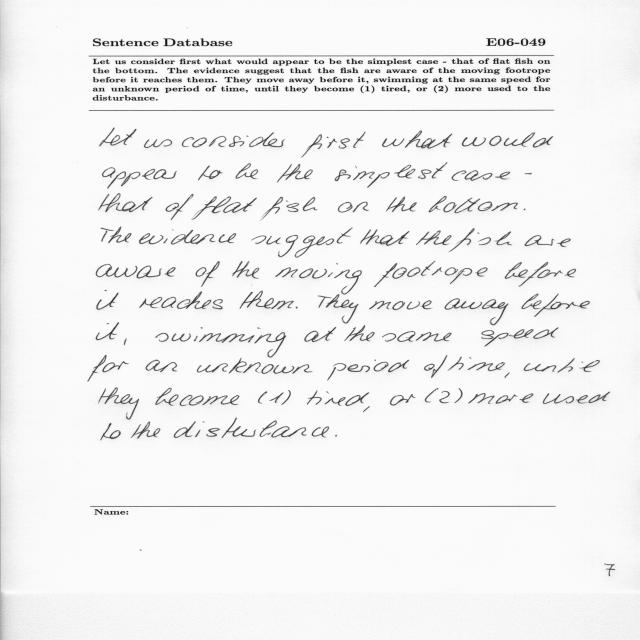word: (155, 327, 286, 358), (116, 292, 223, 325), (174, 418, 337, 438), (251, 228, 353, 258), (374, 261, 488, 287), (335, 163, 448, 188), (275, 263, 362, 295), (197, 358, 312, 374), (505, 262, 576, 287), (327, 360, 410, 381), (445, 299, 509, 326), (103, 167, 177, 189), (301, 132, 366, 157), (521, 294, 590, 317), (191, 196, 257, 220), (182, 133, 285, 148), (448, 228, 512, 252), (428, 196, 518, 213), (155, 388, 239, 406), (482, 328, 559, 347), (139, 230, 236, 245), (462, 133, 553, 148), (261, 197, 318, 220), (99, 388, 139, 420), (382, 131, 452, 149), (318, 294, 359, 324), (524, 358, 600, 373), (96, 264, 176, 278), (88, 356, 129, 382), (99, 194, 153, 212), (240, 291, 294, 309), (543, 391, 610, 404), (360, 229, 409, 246), (447, 357, 505, 371), (382, 331, 452, 342), (97, 290, 119, 324), (166, 194, 194, 220), (100, 128, 137, 146), (277, 164, 313, 182), (452, 170, 510, 181), (369, 300, 432, 310), (196, 261, 220, 287), (307, 391, 346, 406), (525, 235, 571, 247), (425, 355, 448, 378), (416, 230, 451, 245), (232, 261, 260, 279), (344, 326, 375, 342), (131, 422, 160, 439), (101, 227, 131, 243), (305, 327, 337, 342), (386, 197, 417, 212), (146, 360, 178, 373), (496, 393, 533, 404), (198, 166, 223, 181), (439, 388, 463, 403), (236, 163, 258, 179), (338, 202, 369, 213), (101, 423, 121, 440), (345, 392, 369, 406), (96, 325, 118, 340), (390, 394, 416, 406), (468, 393, 495, 404), (144, 139, 172, 148), (425, 388, 438, 403), (269, 392, 284, 403), (281, 390, 291, 405), (258, 392, 267, 404), (363, 407, 370, 412), (505, 372, 510, 378), (124, 339, 127, 346), (525, 173, 532, 175), (296, 307, 298, 309), (524, 209, 526, 210)
